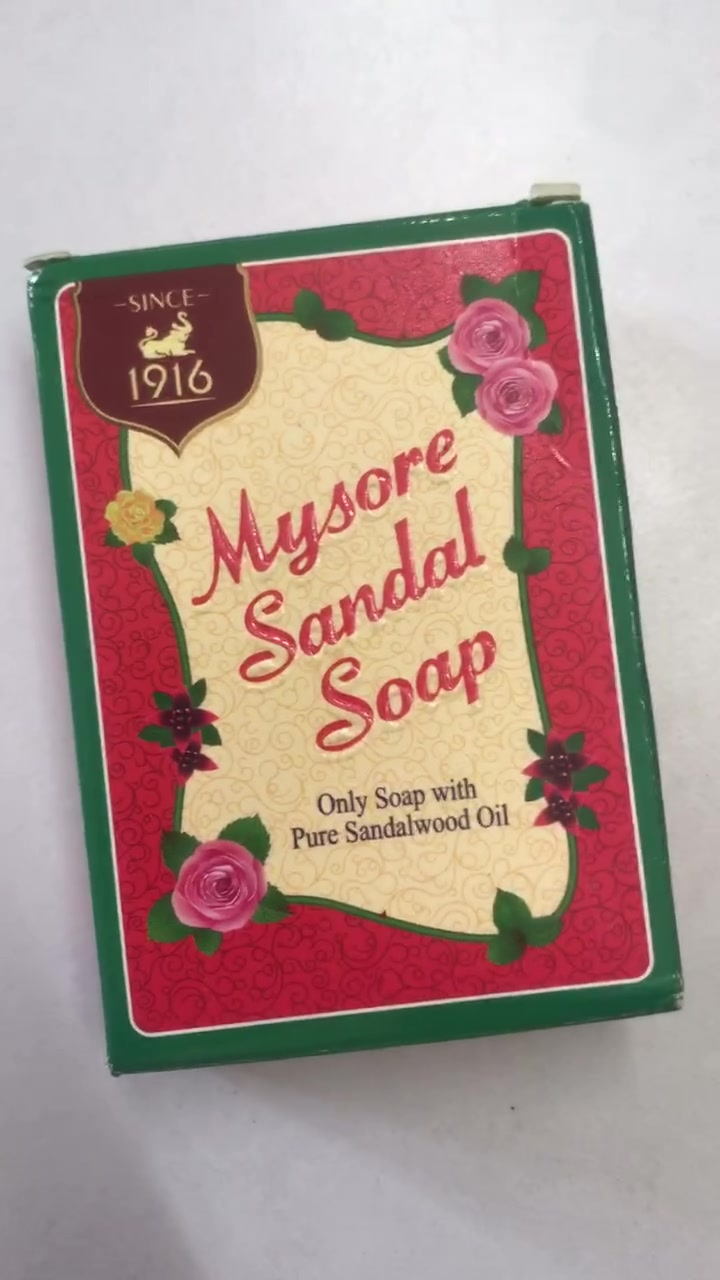mysore sandal soap: (48, 218, 683, 1059)
